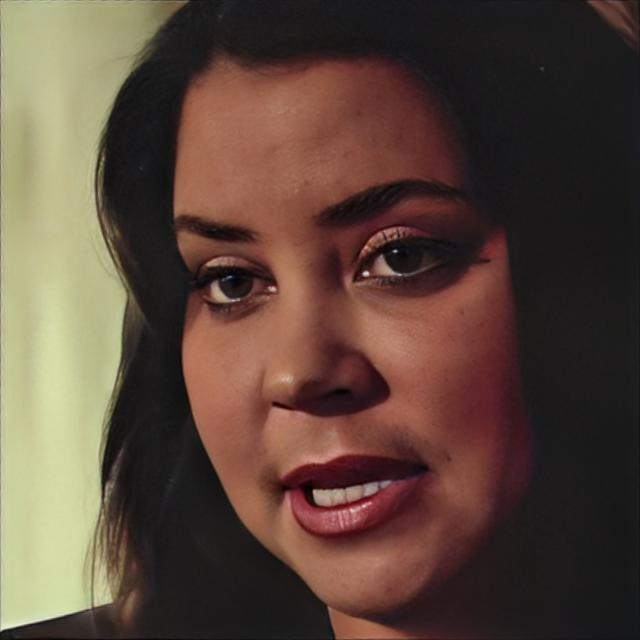surprise: (168, 36, 540, 615)
